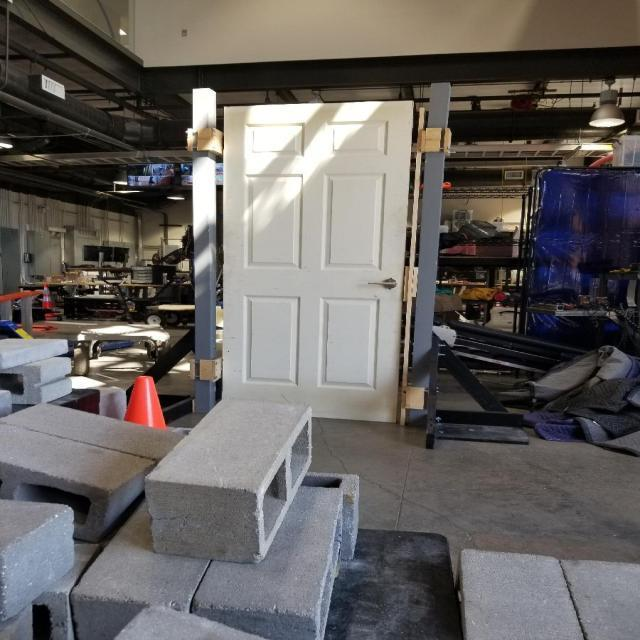door: (219, 99, 415, 426), (357, 276, 405, 295)
